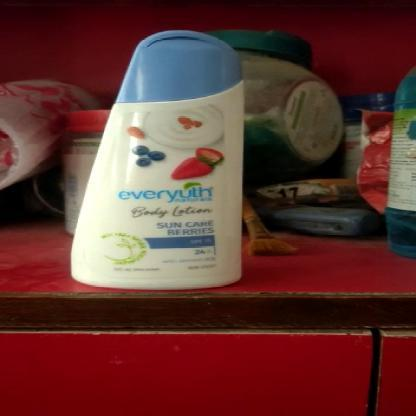Everyuth Naturals Body Lotion Sun Care Berries SPF 15 200ml: (73, 29, 241, 289)
